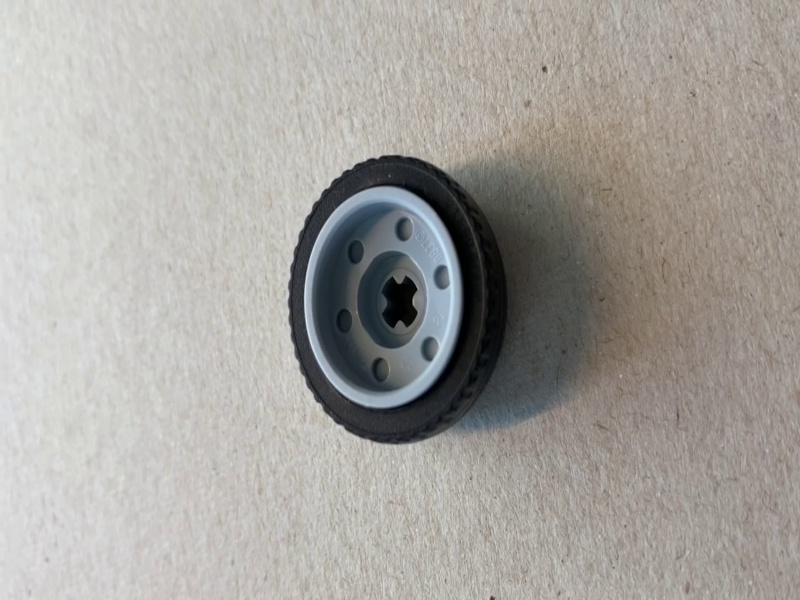tire: (287, 153, 510, 440)
